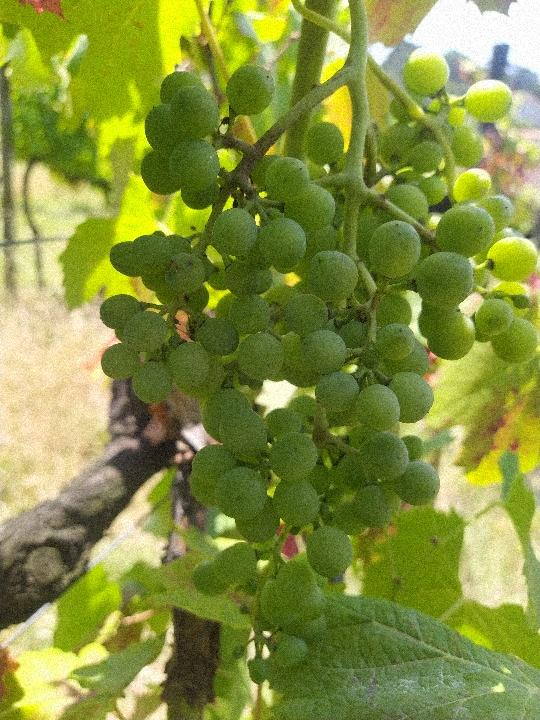grape: (97, 44, 537, 686)
